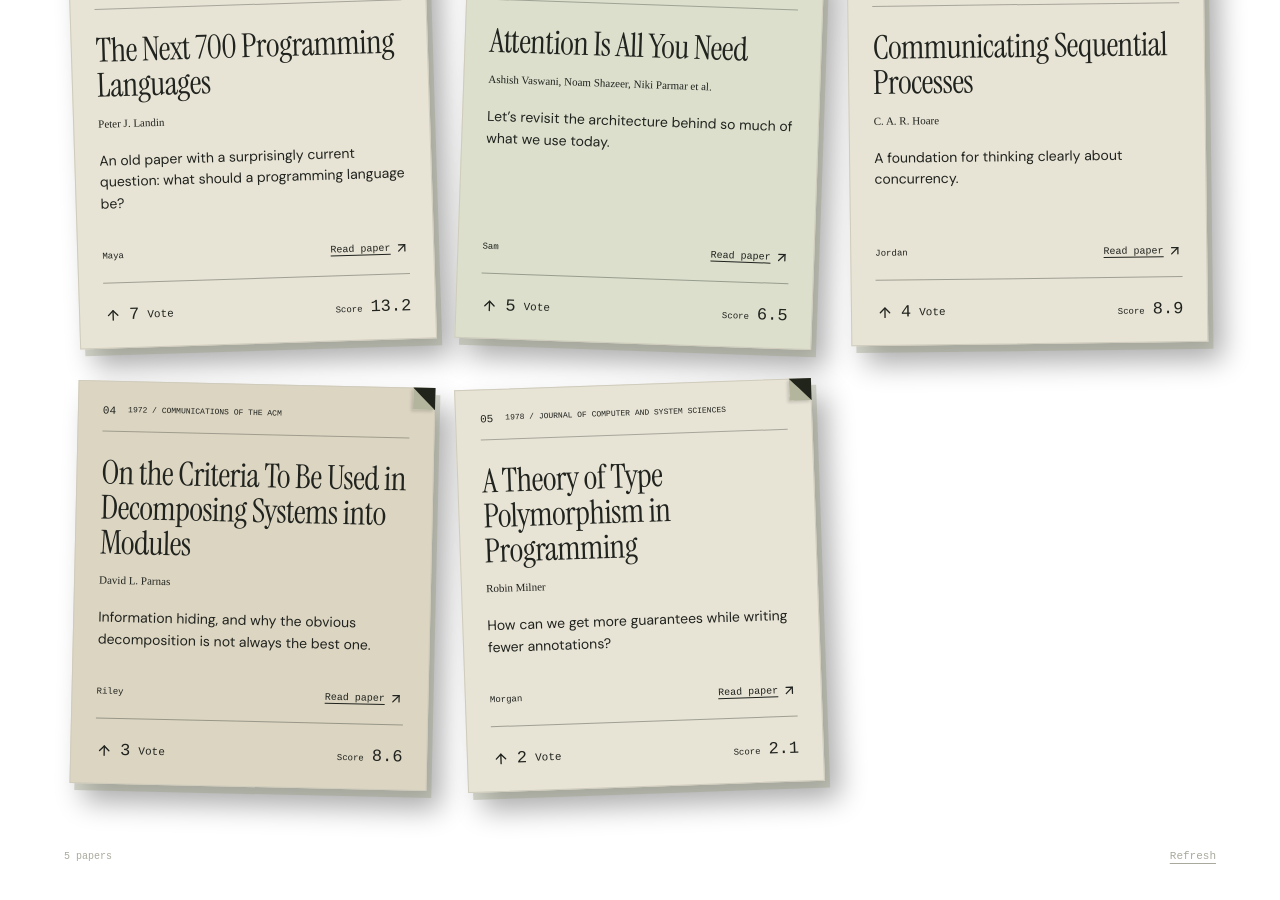
Test: a pending vote resumes after sign-in without an extra click
(page scrolled)
Click the button with aria-label "Vote for A Theory of Type Polymorphism in Programming".
click(530, 757)  # box x1=484 y1=737 x2=576 y2=778
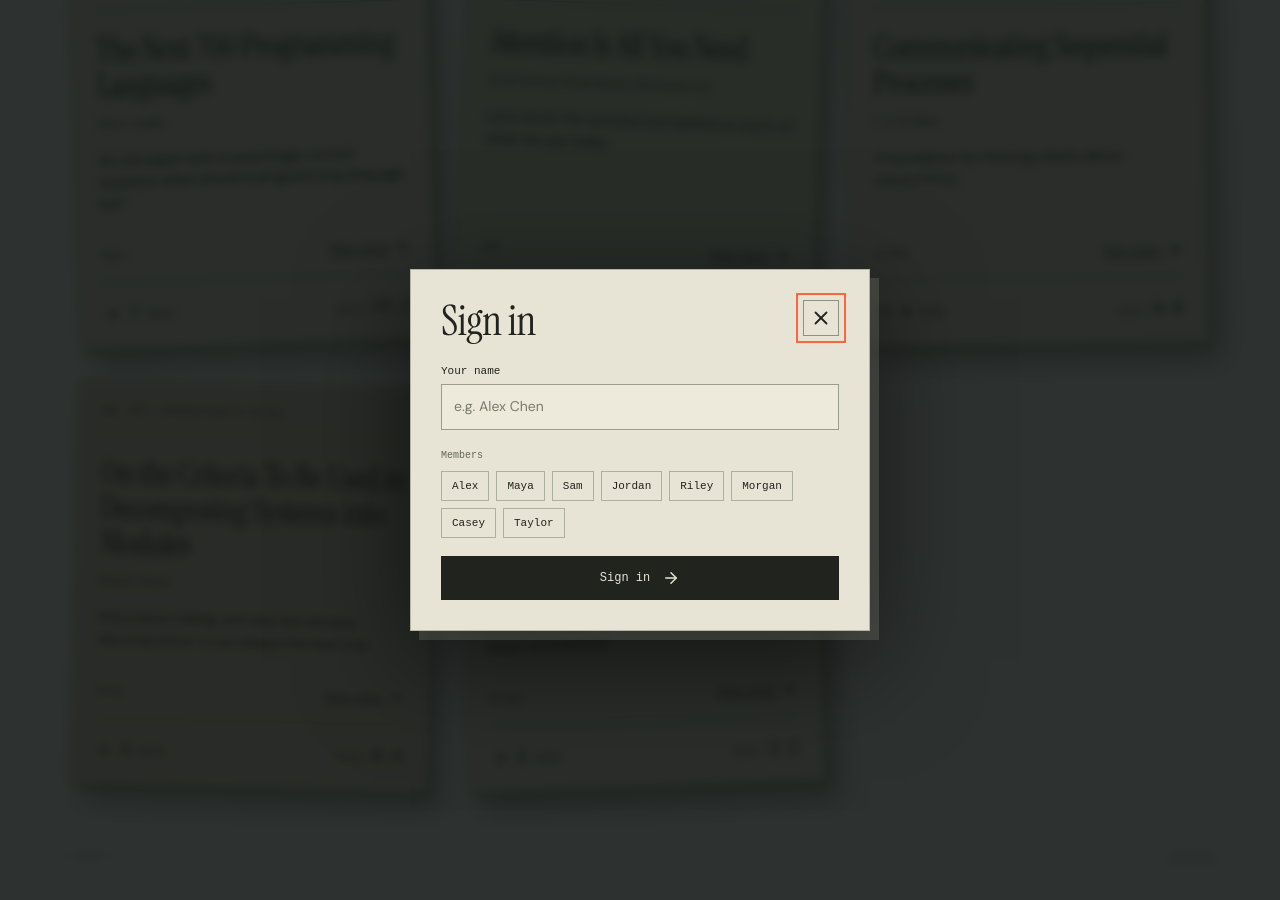
Type "New Reader" into the field labelled "Your name".
click(640, 407); type("New Reader")  # box x1=441 y1=384 x2=839 y2=430
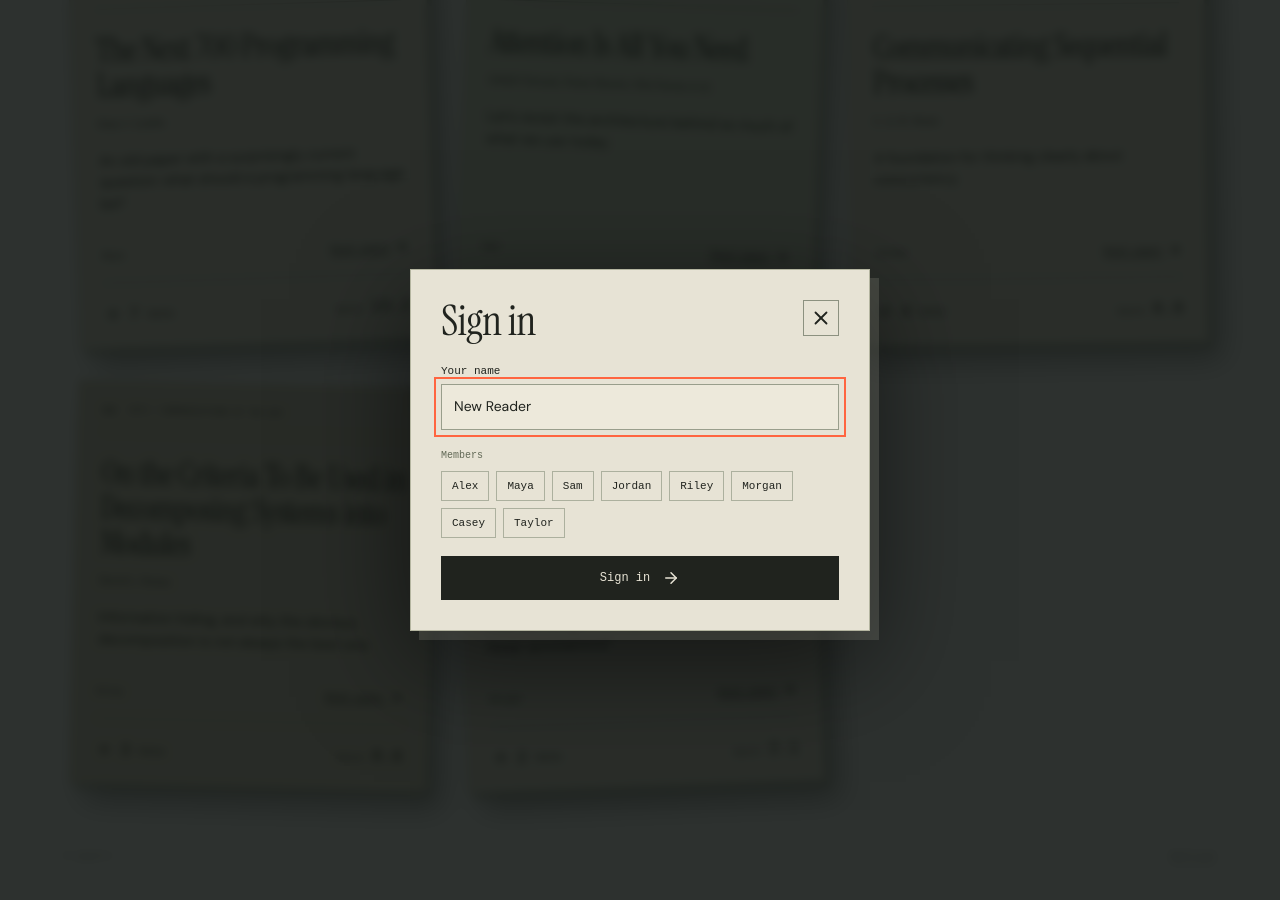
Click the button "Sign in".
click(640, 578)  # box x1=441 y1=556 x2=839 y2=600
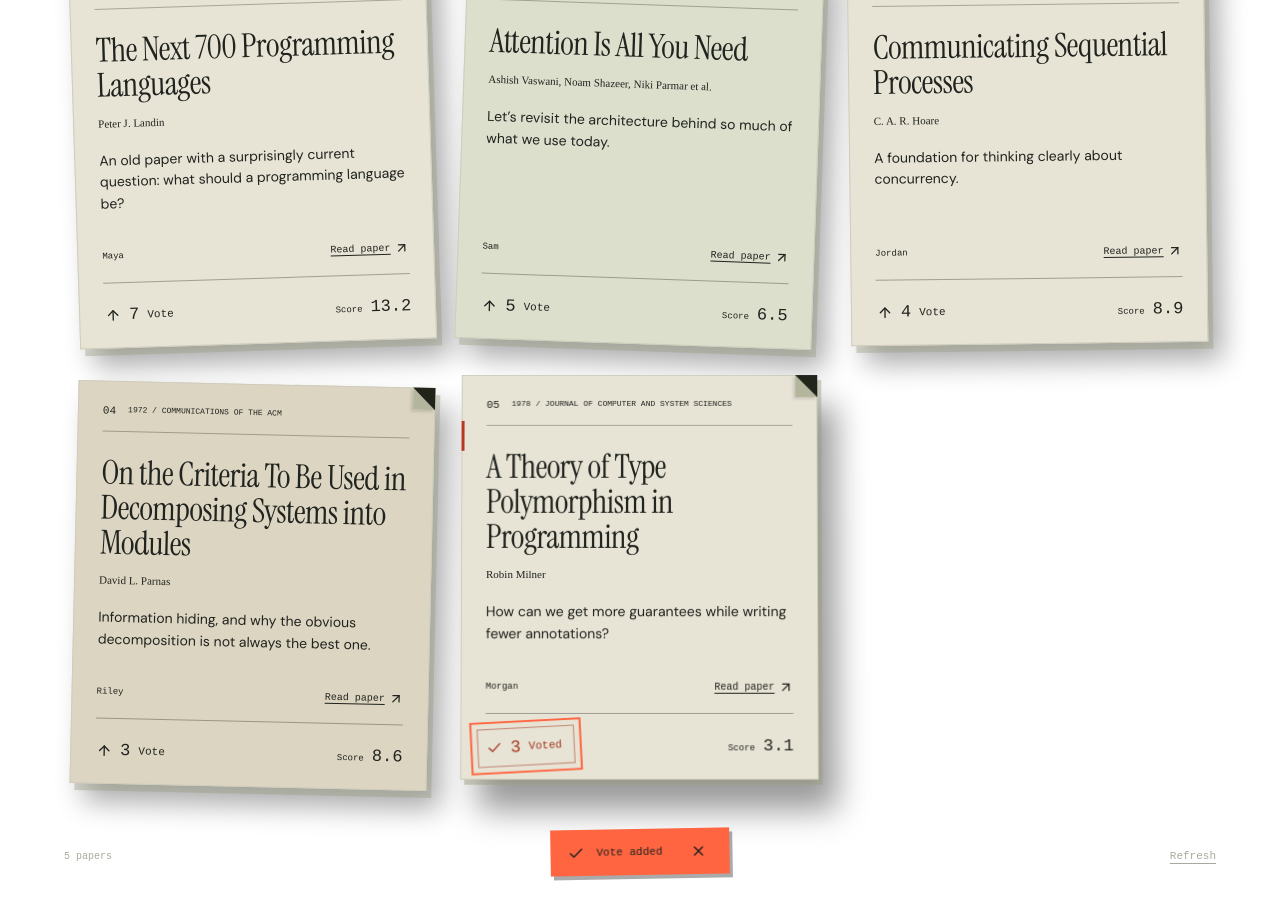
Check: the button named "Withdraw vote from A Theory of Type Polymorphism in Programming" is shown, box x1=477 y1=724 x2=576 y2=768
